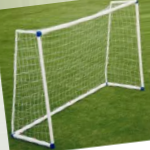goals: (9, 1, 147, 147)
